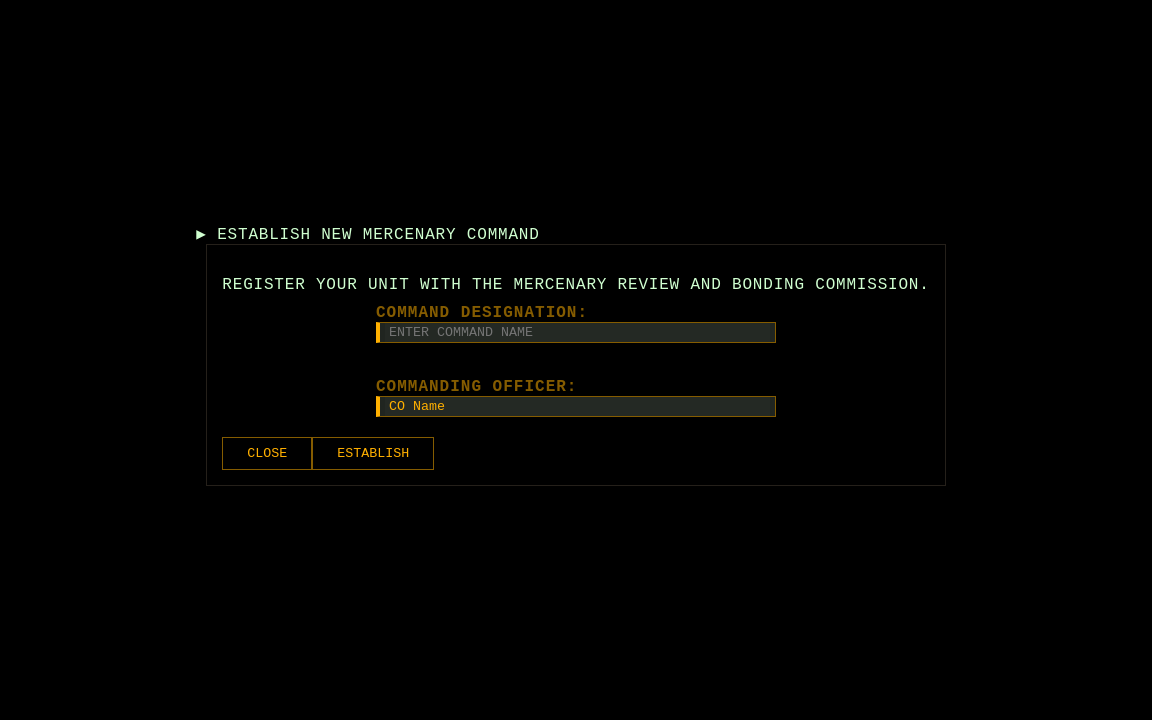
Test: CreateCommandForm › shows error when command name is empty
Click the button "ESTABLISH" at point(373, 454), box [312,437,434,470]
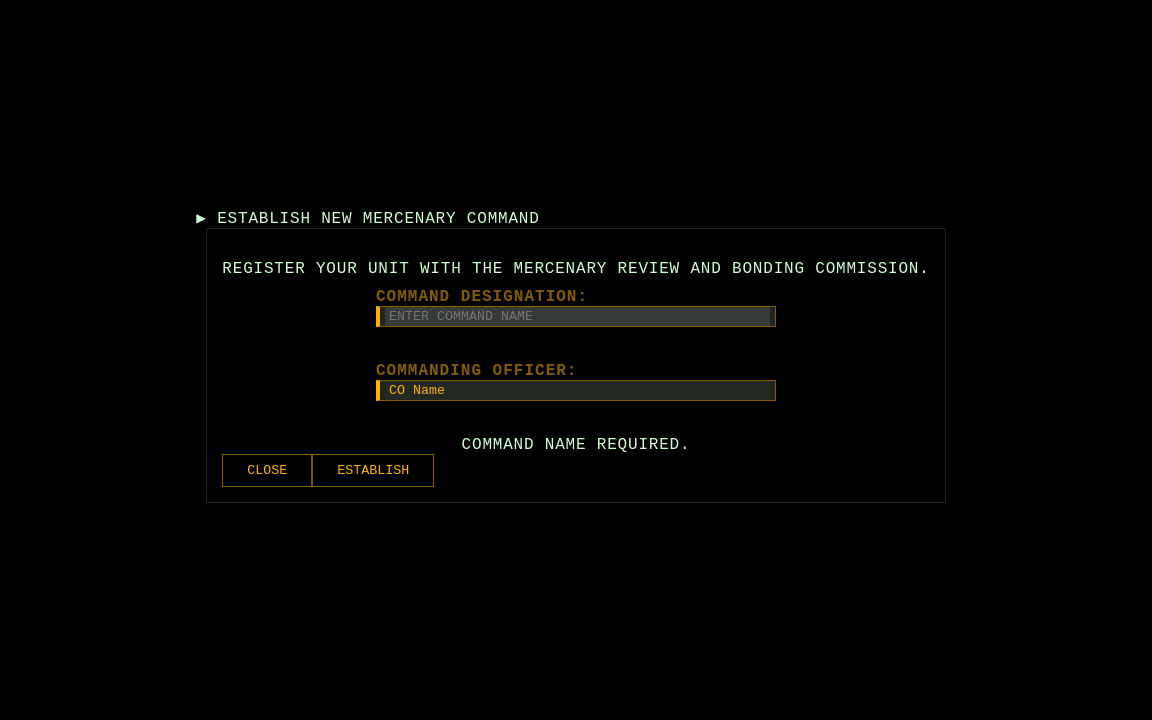
Now the text "COMMAND NAME REQUIRED." is shown, box [462,436,690,454]
